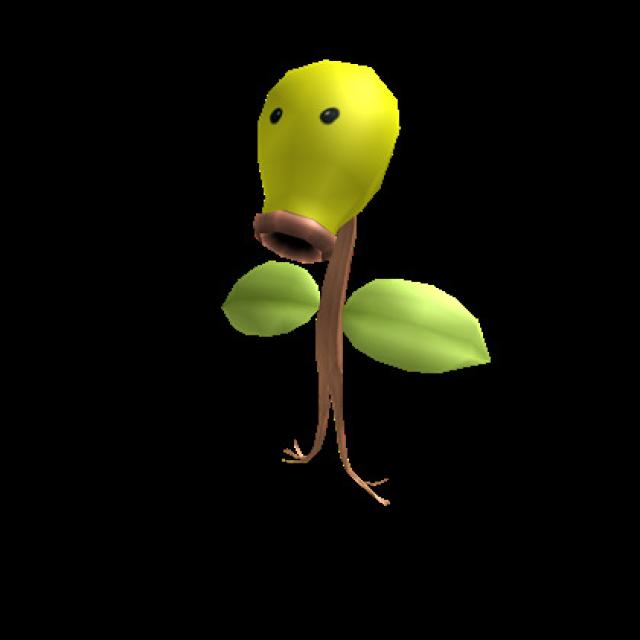Bellsprout: (222, 33, 499, 548)
